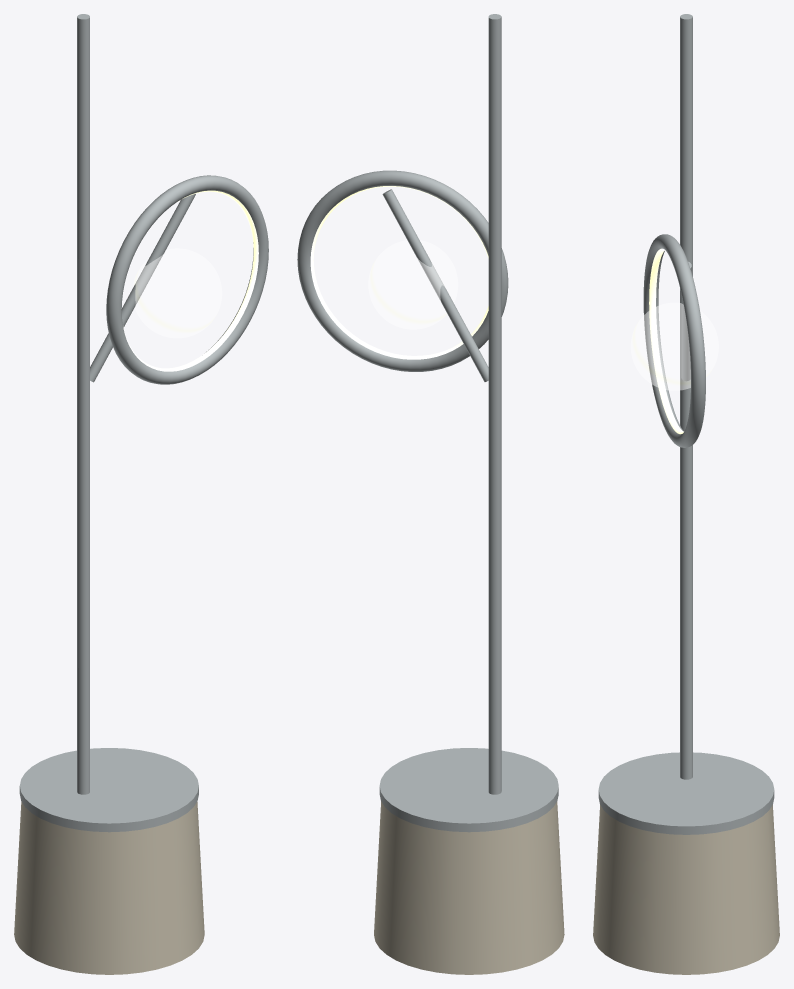
Rendered from atelier-lamp-halo-stone.glb.
The picture shows the model from 3 angles, left to right: view 1: azimuth 30°, elevation 25°; view 2: azimuth 150°, elevation 25°; view 3: azimuth 270°, elevation 25°; orthographic projection.
Size of the model in its own units: 0.4789 by 1.71 by 0.32.
